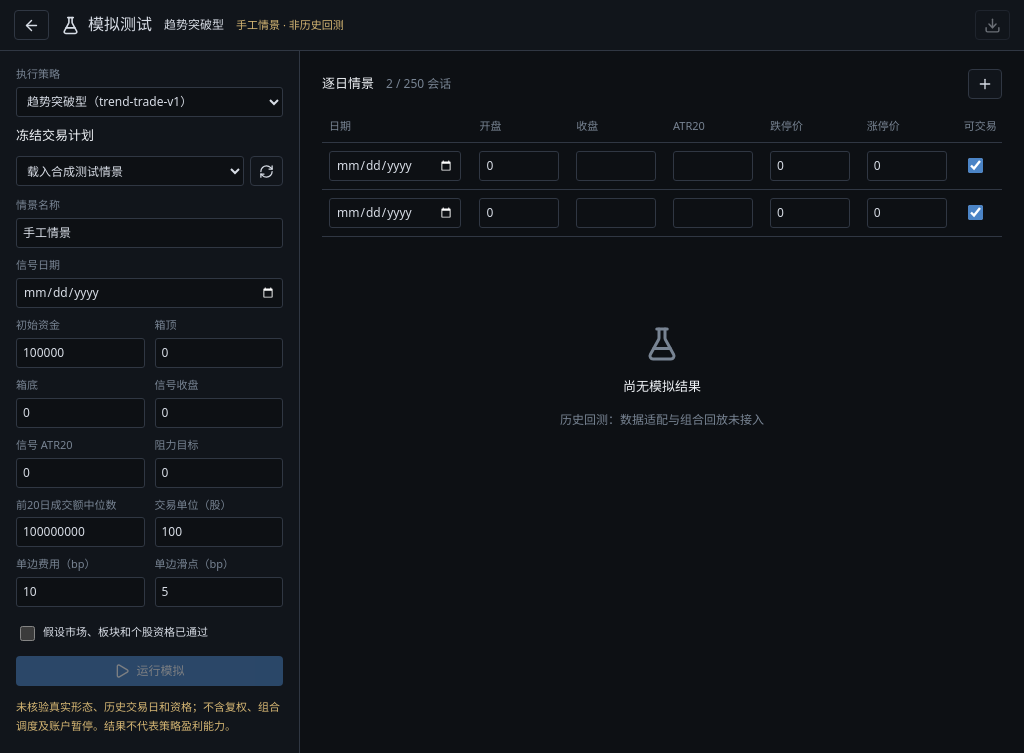
Test: TradeSimulationWorkspace › switches catalog strategies without carrying old geometry and sends its identity
Select "合成情景：目标退出" in the dropdown named "载入合成测试情景" at (130, 171), box [16,156,244,186]
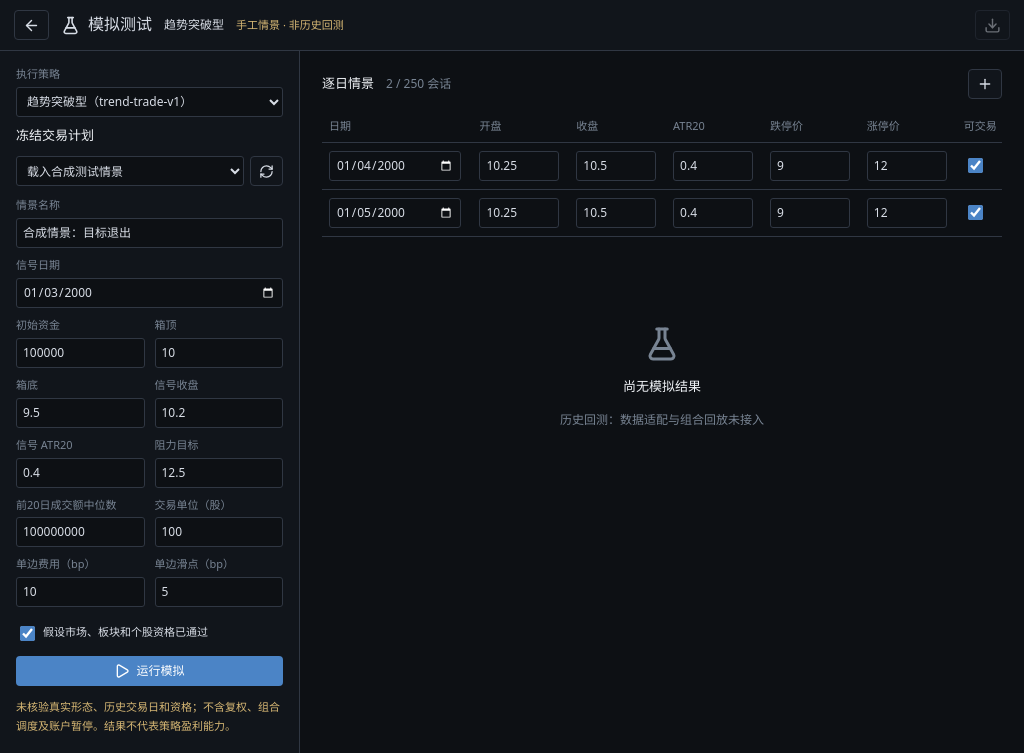
Select "测试策略（test-v1）" in the dropdown labelled "执行策略" at (150, 102), box [16,87,283,117]
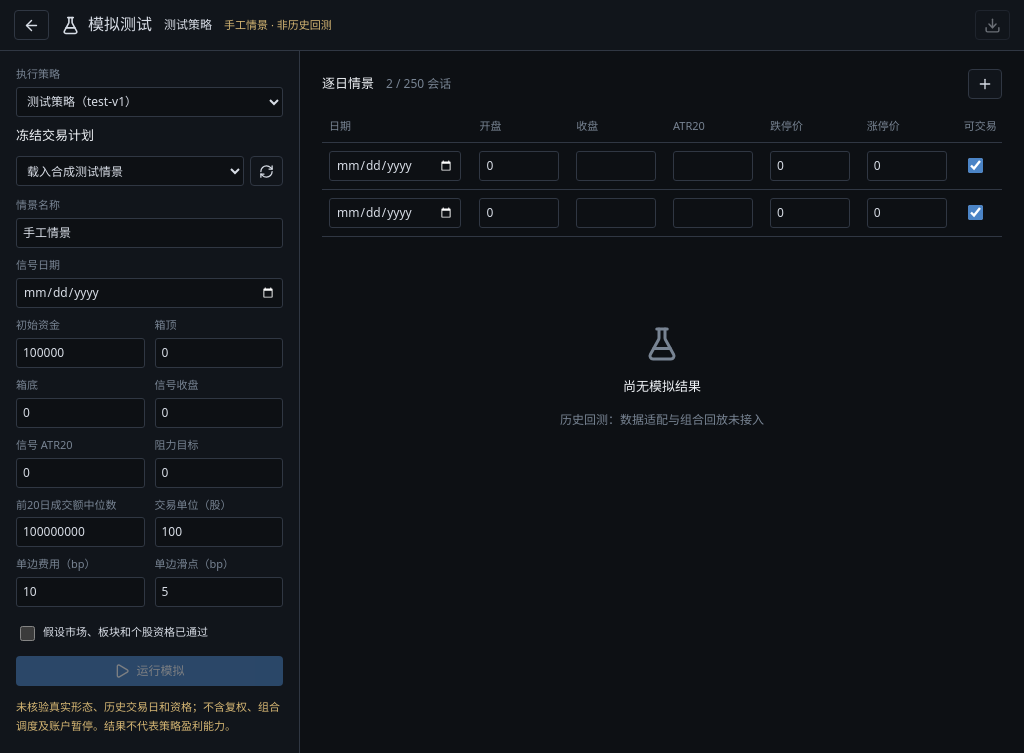
Now the number field labelled "箱顶" holds "0", box [154,338,283,368]
Now the button "运行模拟" is disabled, box [16,656,283,686]
Select "第二策略情景" in the dropdown named "载入合成测试情景" at (130, 171), box [16,156,244,186]
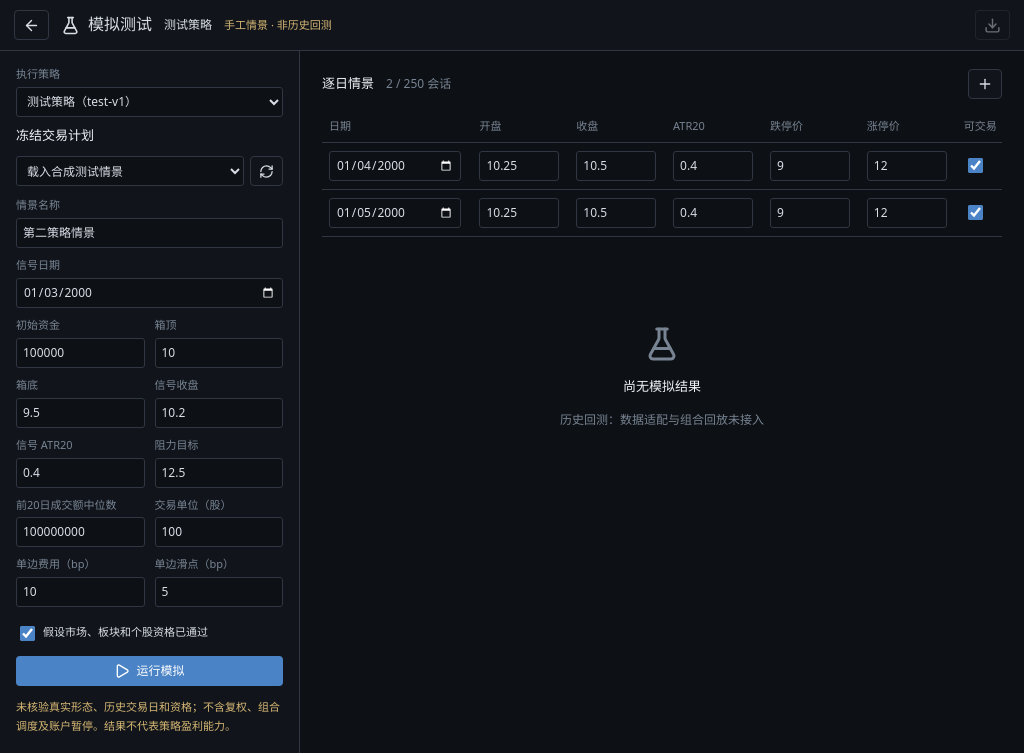
Click the button "运行模拟".
click(150, 671)  # box [16,656,283,686]
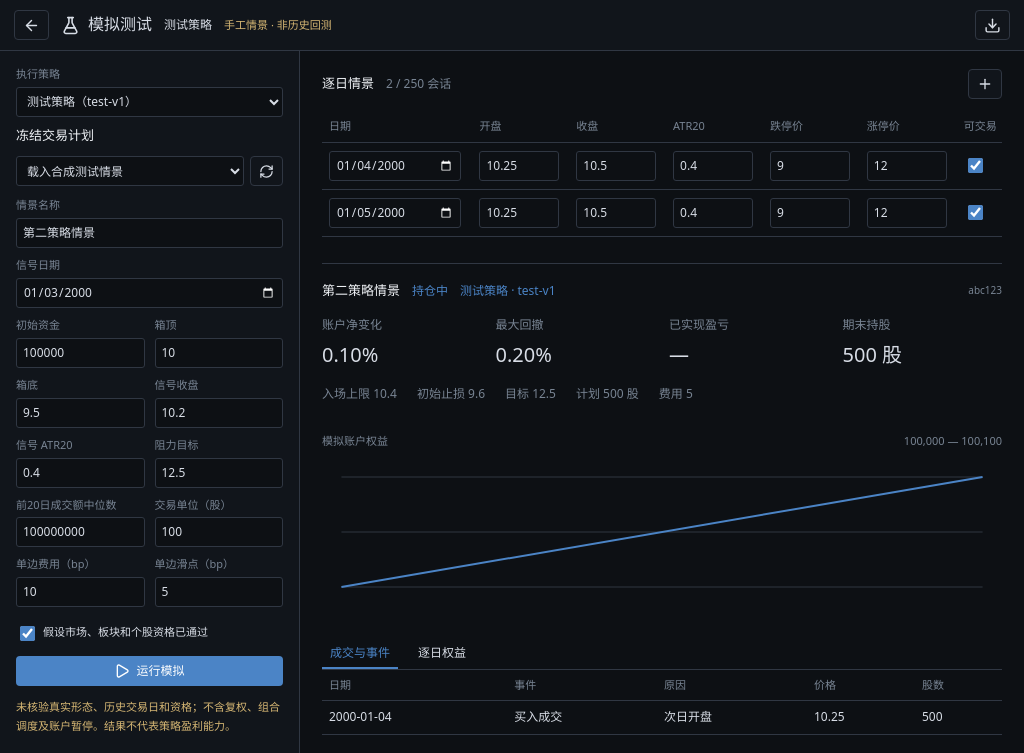
Now the text "买入成交" is shown, box [507,701,657,734]
Now the text "测试策略 · test-v1" is shown, box [460,282,556,299]
